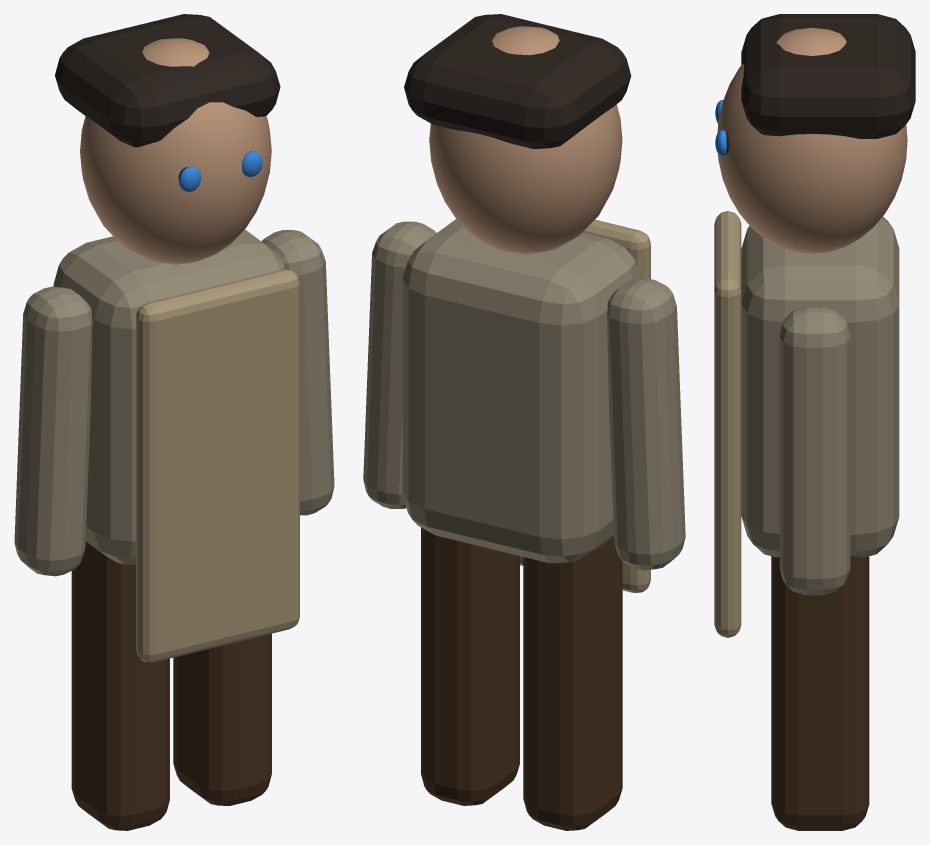
Rendered from ezekiel_4178.glb.
3 views of the same model, side by side, from view 1: azimuth 30°, elevation 25°; view 2: azimuth 150°, elevation 25°; view 3: azimuth 270°, elevation 25° (orthographic).
Parts seen in each view (by area): view 1: Work apron, Head, Booted leg, Fitted torso, Detailed arm, Hair, Booted leg.001, Detailed arm.001; view 2: Fitted torso, Booted leg, Booted leg.001, Hair, Head, Detailed arm, Detailed arm.001, Work apron; view 3: Fitted torso, Booted leg.001, Head, Detailed arm.001, Hair, Work apron.
Part boxes in pixels (x1,y1,x2,y2): Work apron: (136,269,299,662); Head: (80,38,271,264); Booted leg: (71,541,169,830); Fitted torso: (53,229,285,564); Detailed arm: (14,286,92,576); Hair: (55,14,280,147); Booted leg.001: (173,633,271,805); Detailed arm.001: (261,230,334,515); Fitted torso: (402,219,640,563); Booted leg: (523,535,622,830); Booted leg.001: (421,527,519,805); Hair: (404,14,631,149); Head: (429,26,622,254); Detailed arm: (607,278,685,570); Detailed arm.001: (363,221,436,508); Work apron: (520,219,650,592); Fitted torso: (741,216,899,557); Booted leg.001: (771,555,869,830); Head: (717,27,907,253); Detailed arm.001: (779,306,850,595); Hair: (741,14,915,138); Work apron: (714,211,741,637).
Bounding box in the file's own units: 1.29 × 3.09 × 0.74.
